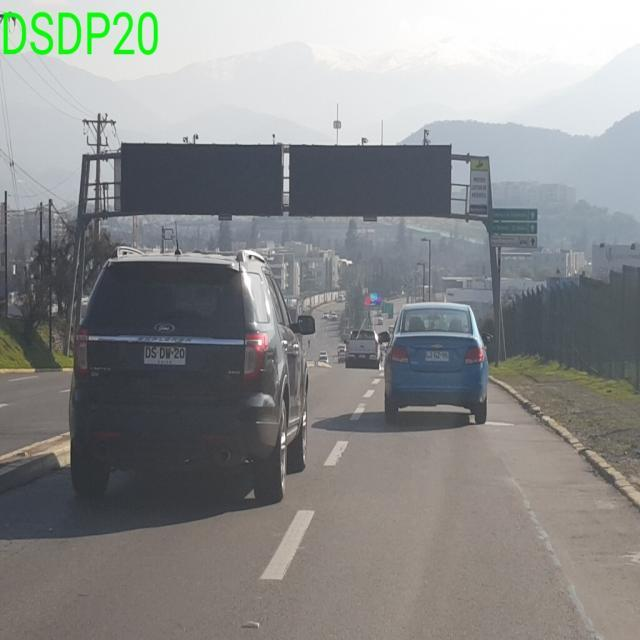Car: (67, 241, 315, 502), (381, 300, 491, 424)
